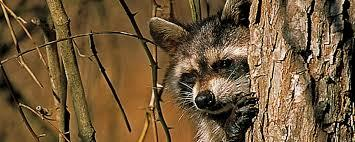raccoon: (123, 0, 291, 142)
